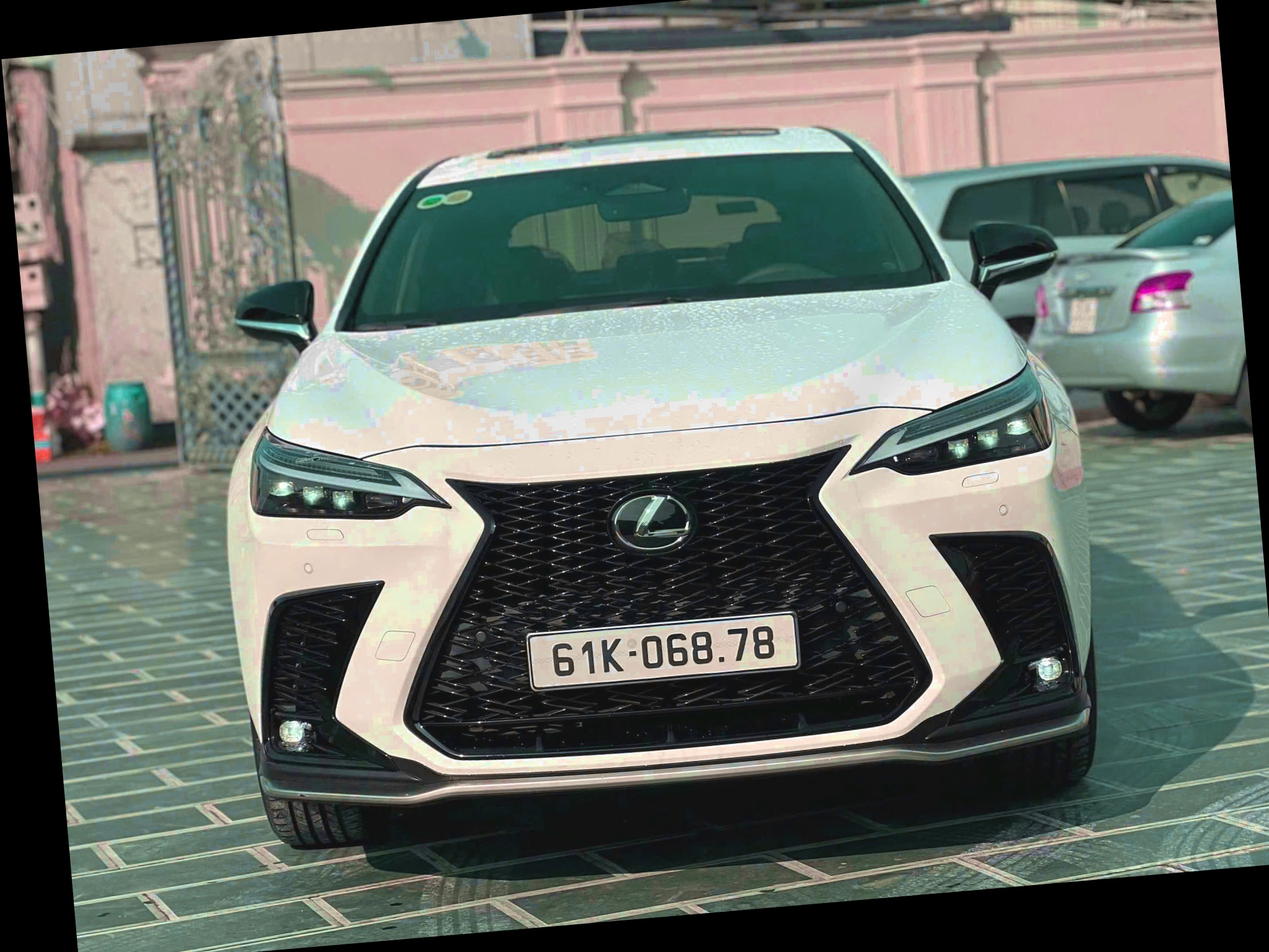Bien-so: (491, 639, 780, 708)
